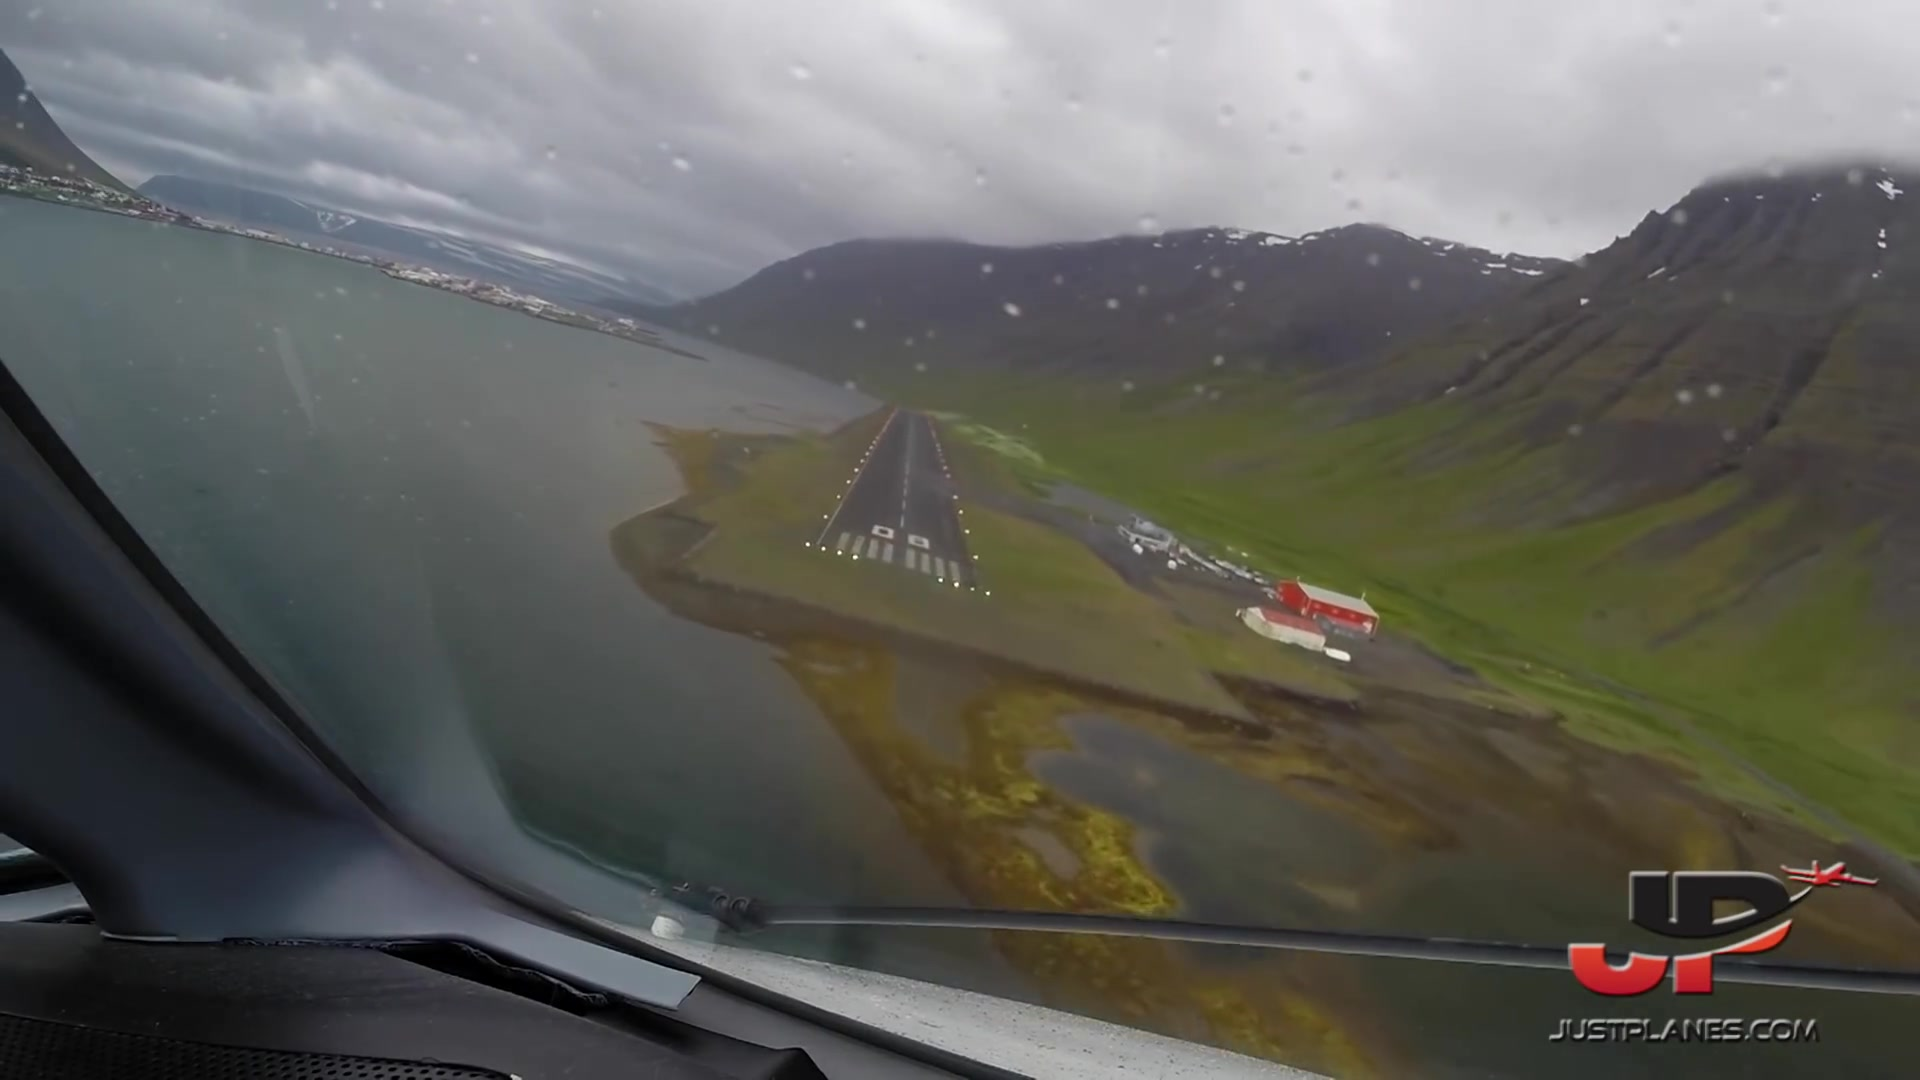entrance: (837, 533, 960, 583)
runway: (808, 405, 992, 597)
